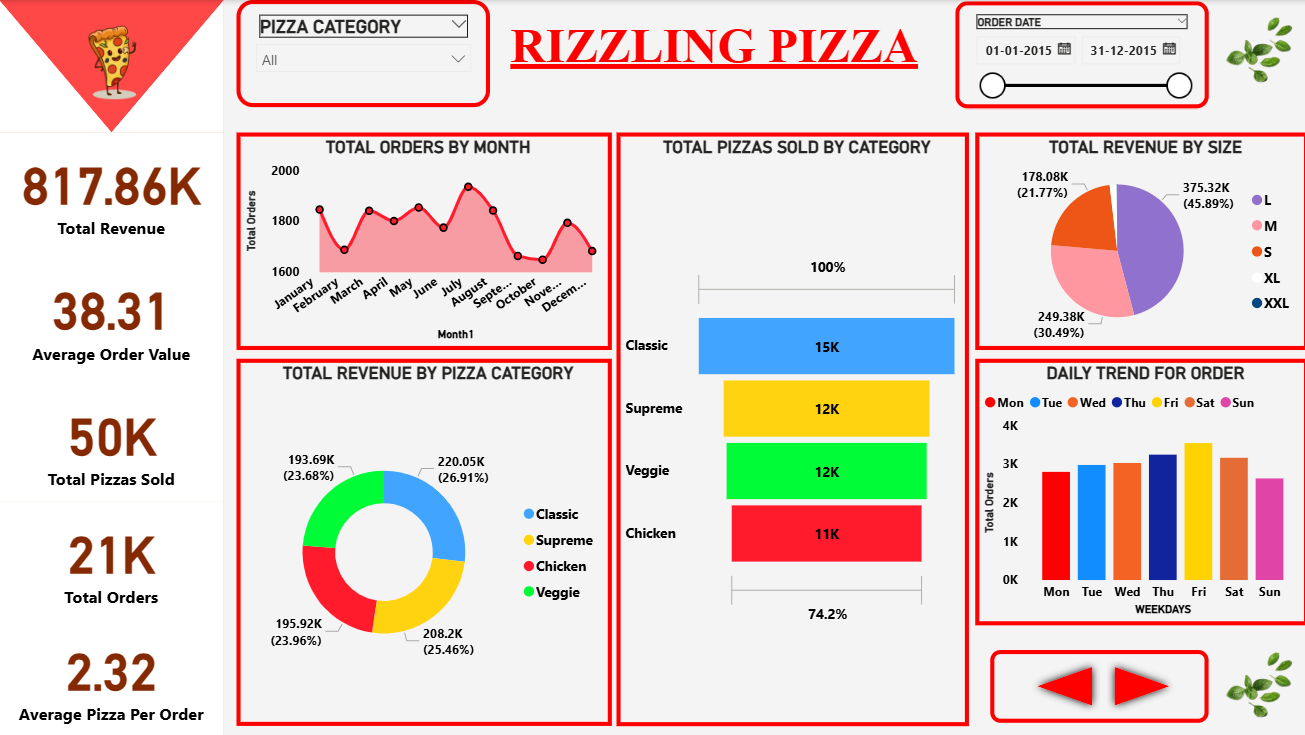

The page's visual inventory and layout, read from the dashboard file:
{"tool":"powerbi","page":{"name":"Page 2","canvas":[1280,720],"ordinal":1},"visuals":[{"type":"shape","box":[0,0,220.1,720.2],"z":0},{"type":"card","fields":{"Values":["Measures (3).Total Revenue"]},"box":[0,129.6,220.1,114.9],"z":1000},{"type":"card","fields":{"Values":["Measures (3).Average Order Value"]},"box":[0,244.6,220.1,130.8],"z":2000},{"type":"card","fields":{"Values":["Measures (3).Total Pizzas Sold"]},"box":[0,375.4,220.1,114.9],"z":3000},{"type":"card","fields":{"Values":["Measures (3).Average Pizza Per Order"]},"box":[0,605.3,220.1,114.9],"z":4000},{"type":"card","fields":{"Values":["Measures (3).Total Orders"]},"box":[0,490.4,220.1,114.9],"z":5000},{"type":"shape","box":[0,0,220.1,129.6],"z":6000},{"type":"image","box":[22,0,177.3,118.6],"z":7000},{"type":"slicer","fields":{"Values":["pizza_sales (2).pizza_category"]},"box":[232.3,0,248.2,105.2],"z":8000},{"type":"textbox","box":[495.2,12.2,425.5,81.9],"z":9000},{"type":"slicer","fields":{"Values":["pizza_sales (2).order_date"]},"box":[935.5,1.2,248.2,105.2],"z":10000},{"type":"image","box":[1183.7,621.2,96.6,99],"z":11000},{"type":"image","box":[1183.7,0,96.6,99],"z":12000},{"type":"columnChart","title":"DAILY TREND FOR ORDER","fields":{"Y":["Measures (3).Total Orders"],"Category":["DateTable1.Day Short"],"Series":["DateTable1.Day Short"]},"box":[955,351,325.3,260.5],"z":13000},{"type":"areaChart","title":"TOTAL ORDERS BY MONTH","fields":{"Y":["Measures (3).Total Orders"],"Category":["DateTable1.Month Year"]},"box":[232.3,129.6,366.8,212.8],"z":14000},{"type":"donutChart","title":"TOTAL REVENUE BY PIZZA CATEGORY","fields":{"Category":["pizza_sales (2).pizza_category"],"Y":["Measures (3).Total Revenue"]},"box":[232.3,351,366.8,359.5],"z":15000},{"type":"pieChart","title":"TOTAL REVENUE BY SIZE","fields":{"Category":["pizza_sales (2).pizza_size"],"Y":["Measures (3).Total Revenue"]},"box":[955,129.6,325.3,212.8],"z":16000},{"type":"funnel","title":"TOTAL PIZZAS SOLD BY CATEGORY","fields":{"Category":["pizza_sales (2).pizza_category"],"Y":["Measures (3).Total Pizzas Sold"]},"box":[604.1,129.6,344.8,580.8],"z":17000},{"type":"shape","box":[969.7,635.9,214,70.9],"z":18000},{"type":"shape","box":[1083.4,644.4,69.7,53.8],"z":19000},{"type":"shape","box":[1007.6,644.4,69.7,53.8],"z":20000}]}

Visuals, with their boxes in screenshot pixels (x1, y1, x2, y2), scaled from the page's 1280x720 canvas onto the 1305x735 screenshot:
shape: BBox(0, 0, 224, 734)
card - Measures (3).Total Revenue: BBox(0, 132, 224, 250)
card - Measures (3).Average Order Value: BBox(0, 250, 224, 383)
card - Measures (3).Total Pizzas Sold: BBox(0, 383, 224, 501)
card - Measures (3).Average Pizza Per Order: BBox(0, 618, 224, 734)
card - Measures (3).Total Orders: BBox(0, 501, 224, 618)
shape: BBox(0, 0, 224, 132)
image: BBox(22, 0, 203, 121)
slicer - pizza_sales (2).pizza_category: BBox(237, 0, 490, 107)
textbox: BBox(505, 12, 939, 96)
slicer - pizza_sales (2).order_date: BBox(954, 1, 1207, 109)
image: BBox(1207, 634, 1304, 734)
image: BBox(1207, 0, 1304, 101)
"DAILY TREND FOR ORDER" columnChart: BBox(974, 358, 1304, 624)
"TOTAL ORDERS BY MONTH" areaChart: BBox(237, 132, 611, 350)
"TOTAL REVENUE BY PIZZA CATEGORY" donutChart: BBox(237, 358, 611, 725)
"TOTAL REVENUE BY SIZE" pieChart: BBox(974, 132, 1304, 350)
"TOTAL PIZZAS SOLD BY CATEGORY" funnel: BBox(616, 132, 967, 725)
shape: BBox(989, 649, 1207, 722)
shape: BBox(1105, 658, 1176, 713)
shape: BBox(1027, 658, 1098, 713)
